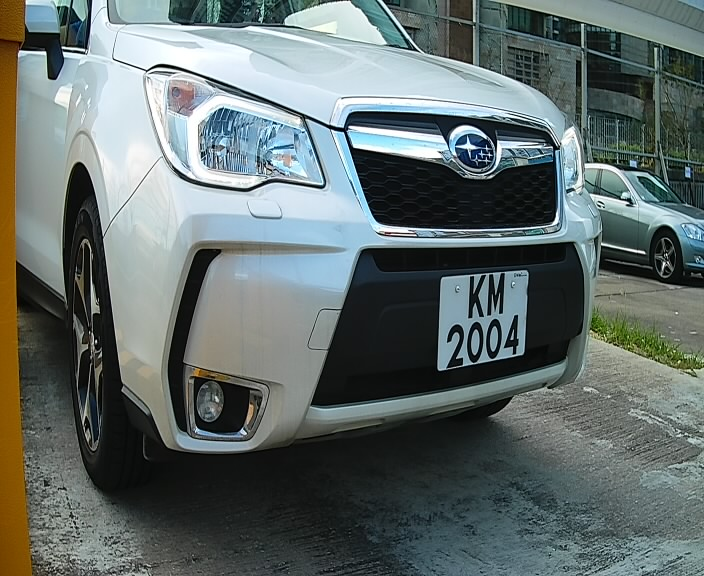Car: (11, 9, 612, 464)
License Plate: (429, 263, 535, 381)
